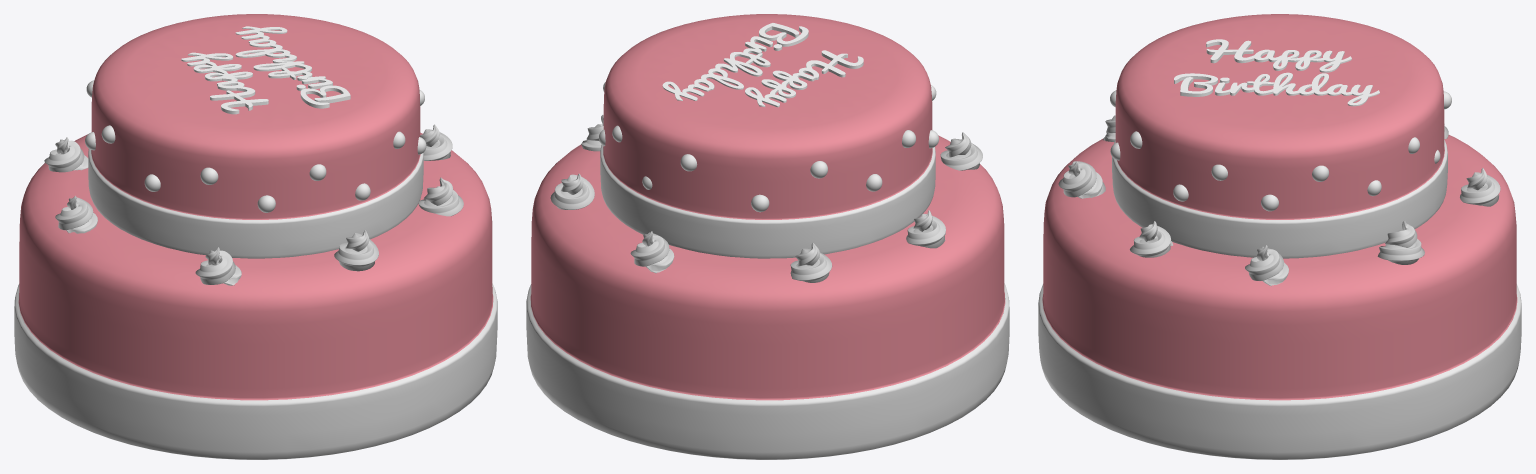
Rendered from cake-transformed.glb.
3 views of the same model, side by side, from view 1: azimuth 30°, elevation 25°; view 2: azimuth 150°, elevation 25°; view 3: azimuth 270°, elevation 25° (orthographic).
Parts seen in each view (by area): view 1: Cake layer 1.001_30, Cake layer 1_29, Text_0, Spiral.003_2, Spiral.007_6, Spiral.004_3, Spiral.005_4, Spiral.008_7, Spiral.000_8; view 2: Cake layer 1.001_30, Cake layer 1_29, Text_0, Spiral.002_1, Spiral.006_5, Spiral.008_7, Spiral.007_6, Spiral.004_3; view 3: Cake layer 1.001_30, Cake layer 1_29, Text_0, Spiral.006_5, Spiral.003_2, Spiral.000_8, Spiral.002_1, Spiral.005_4.
Boxes of the visible parts, <box> form: Cake layer 1.001_30: <box>14,132,497,459</box>; Cake layer 1_29: <box>88,14,423,258</box>; Text_0: <box>181,26,350,114</box>; Spiral.003_2: <box>334,230,378,271</box>; Spiral.007_6: <box>195,247,241,285</box>; Spiral.004_3: <box>55,196,97,233</box>; Spiral.005_4: <box>418,177,463,216</box>; Spiral.008_7: <box>44,137,88,172</box>; Spiral.000_8: <box>420,124,452,160</box>; Cake layer 1.001_30: <box>526,135,1009,459</box>; Cake layer 1_29: <box>600,14,935,258</box>; Text_0: <box>662,23,863,107</box>; Spiral.002_1: <box>630,231,674,273</box>; Spiral.006_5: <box>550,173,594,209</box>; Spiral.008_7: <box>790,242,832,282</box>; Spiral.007_6: <box>940,132,982,170</box>; Spiral.004_3: <box>906,210,945,248</box>; Cake layer 1.001_30: <box>1038,135,1521,459</box>; Cake layer 1_29: <box>1112,14,1447,258</box>; Text_0: <box>1174,39,1379,106</box>; Spiral.006_5: <box>1377,220,1424,264</box>; Spiral.003_2: <box>1058,161,1105,198</box>; Spiral.000_8: <box>1245,245,1288,286</box>; Spiral.002_1: <box>1460,168,1500,206</box>; Spiral.005_4: <box>1129,221,1172,257</box>.
Size of the model in its own units: 8.88 by 5.89 by 8.88.
